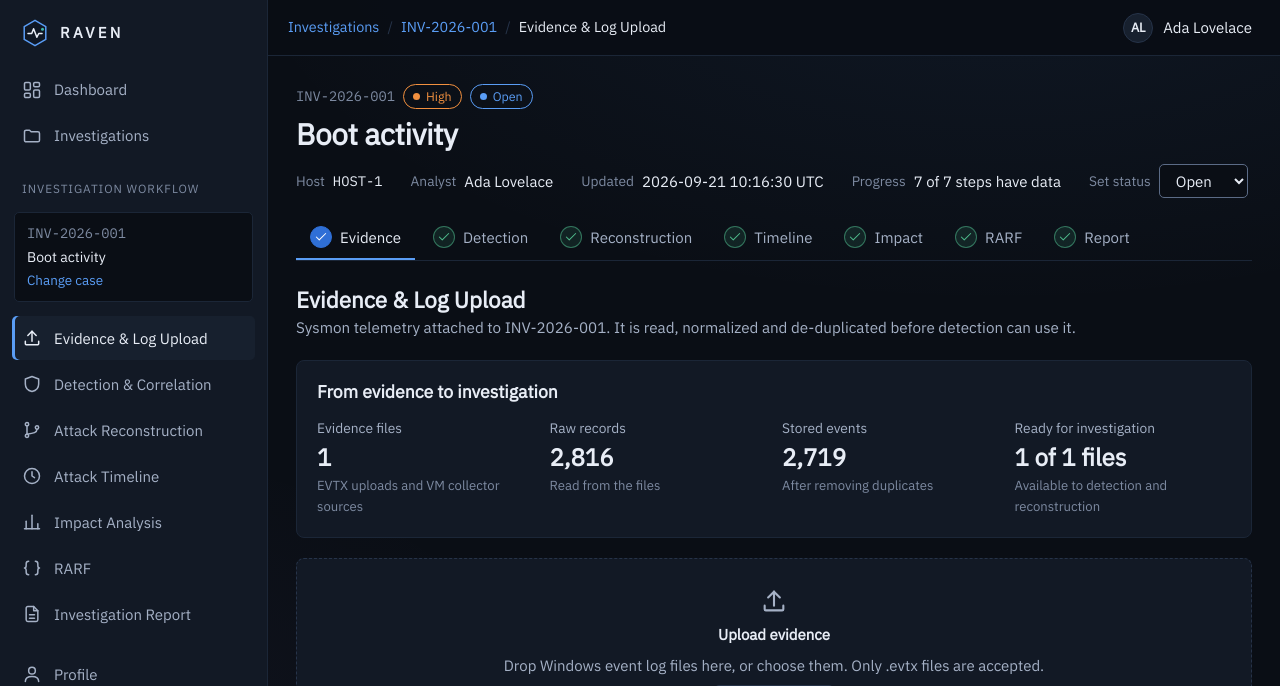
the header of an investigation › changes the status through the API and shows the new one
Expected: the heading "Boot activity" is shown, x1=296 y1=115 x2=458 y2=153
Select "Closed" in the dropdown labelled "Set status" at [1203, 181], box x1=1159 y1=164 x2=1248 y2=198
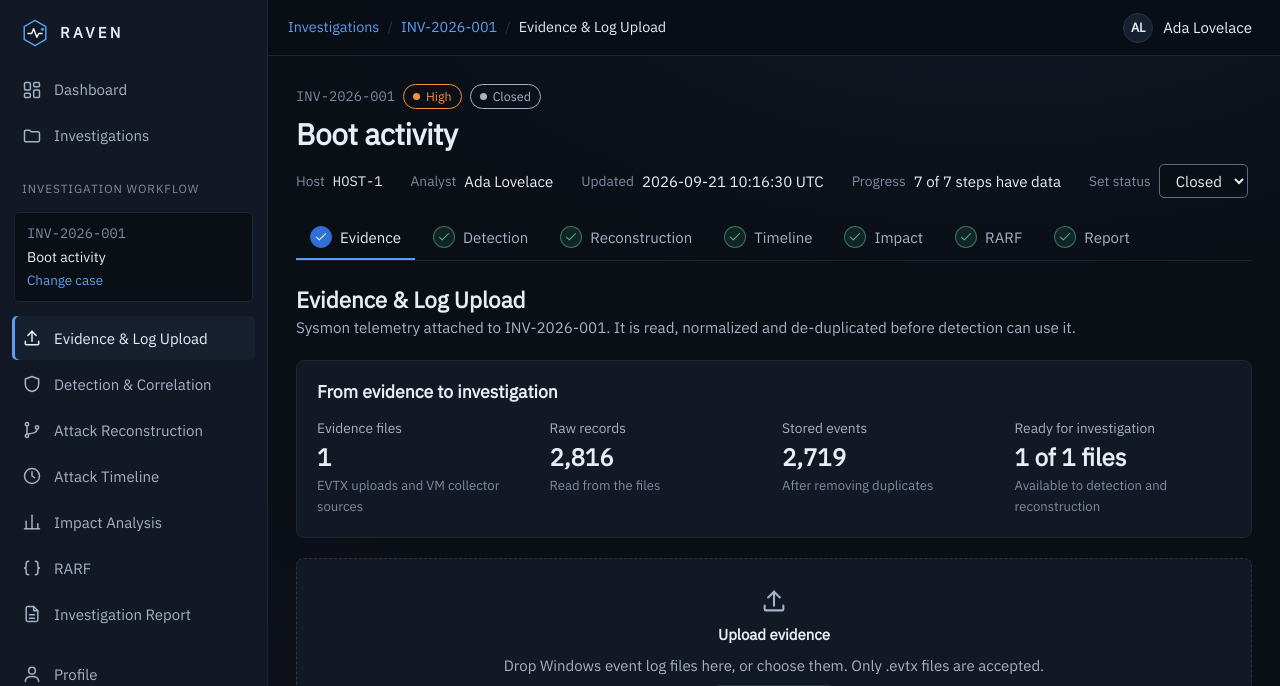
Expected: the text "Closed" is shown, x1=470 y1=84 x2=541 y2=109
